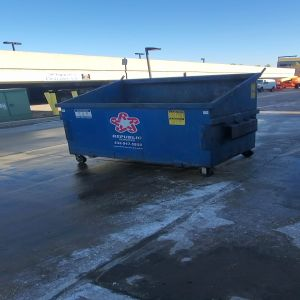Dumpster: (55, 72, 265, 181)
